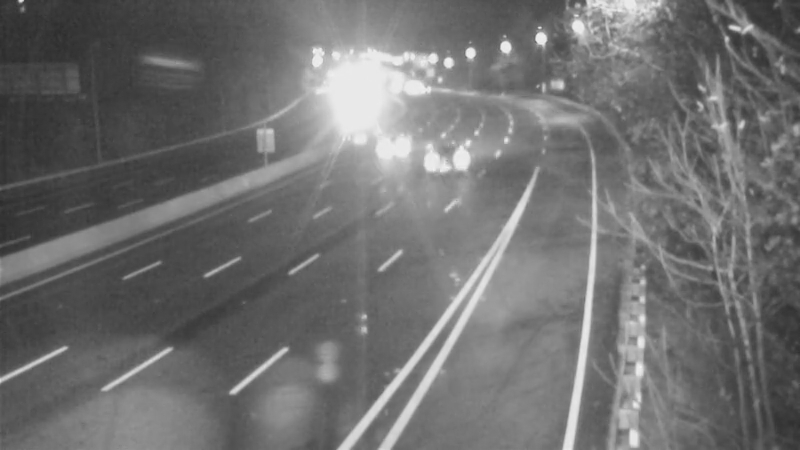vehicle: (409, 121, 489, 201), (373, 121, 423, 171)
